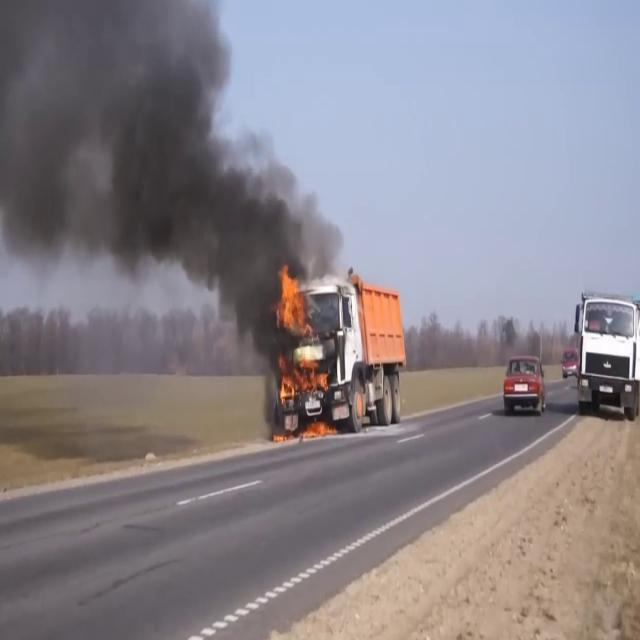Fire: (274, 263, 326, 427)
Smoke: (0, 0, 336, 355)
